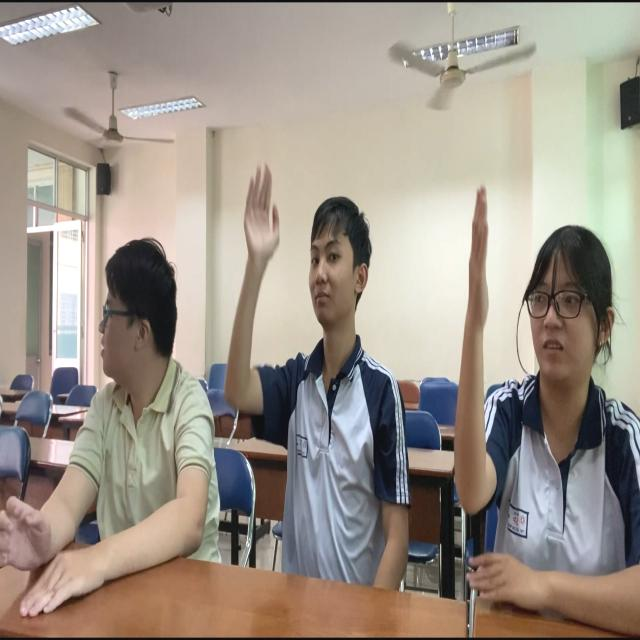raise_hand: (225, 150, 419, 624), (450, 203, 640, 640)
